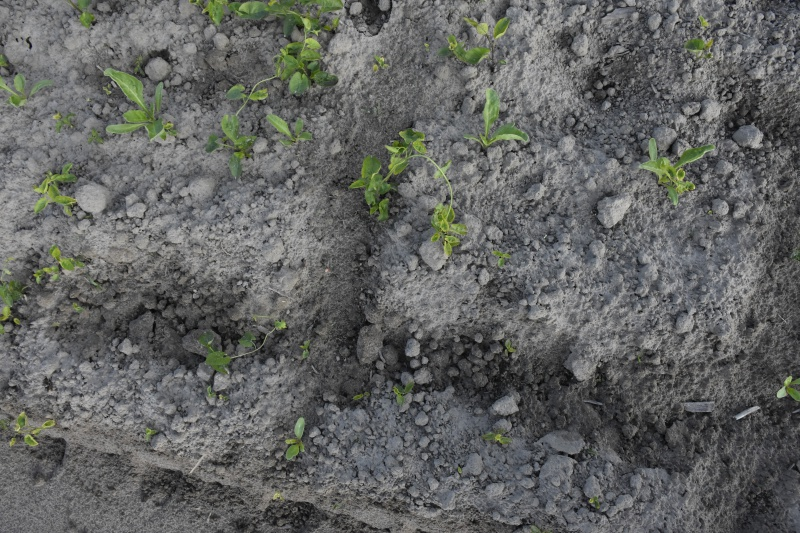field bindweed: (356, 131, 467, 257), (208, 2, 340, 97), (435, 16, 518, 74), (196, 318, 284, 370), (209, 113, 257, 181), (39, 164, 77, 221), (7, 417, 58, 450), (34, 246, 74, 288)
sugar beet: (103, 67, 169, 141), (466, 90, 530, 153), (645, 140, 710, 180), (1, 70, 51, 118), (267, 113, 324, 152), (284, 414, 311, 463)
